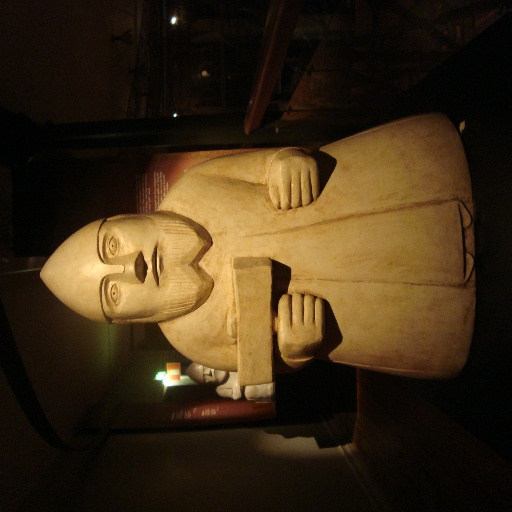hand: (268, 143, 326, 205), (276, 291, 324, 360), (232, 384, 243, 402)
